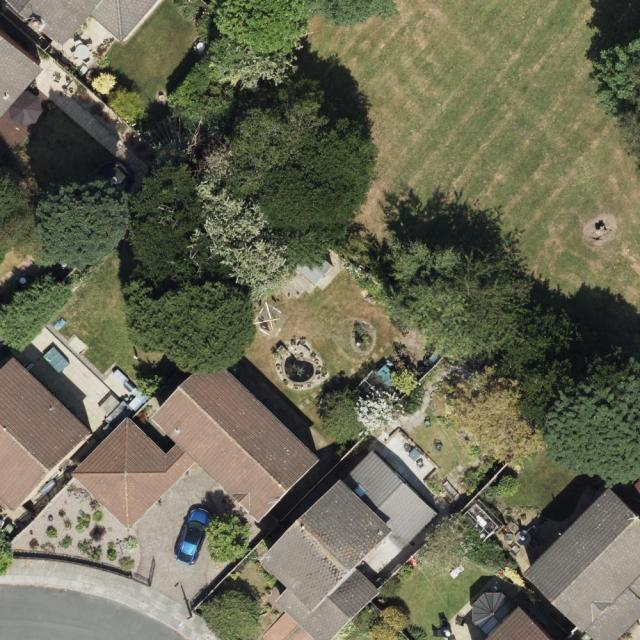roof: (72, 358, 321, 529), (255, 452, 438, 640), (522, 487, 640, 640), (0, 356, 89, 512), (2, 0, 161, 48), (473, 593, 553, 640), (0, 35, 44, 116)
skylight: (352, 480, 369, 500)
